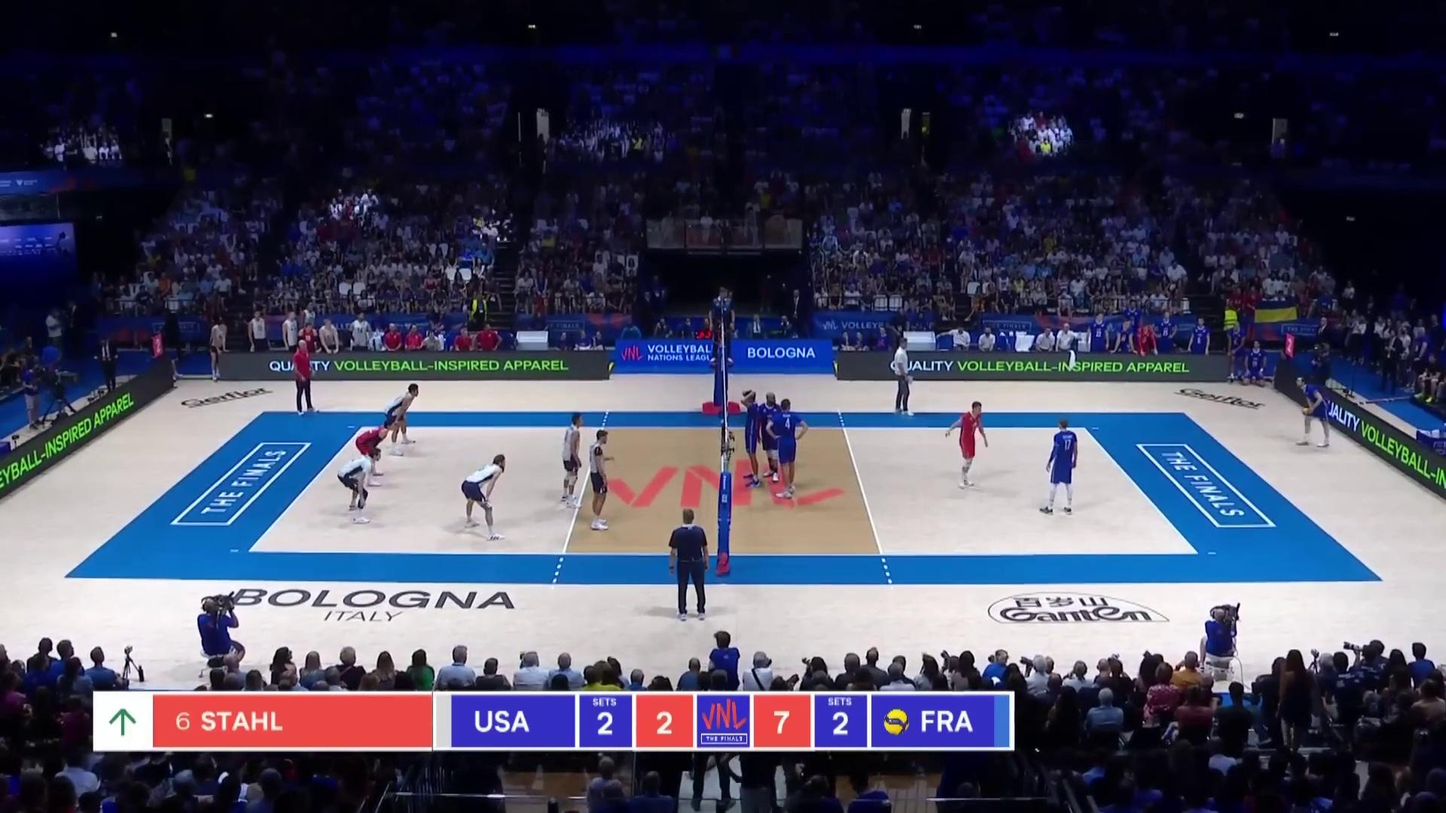player: (461, 455, 506, 540), (1040, 420, 1079, 516), (772, 398, 803, 502), (951, 402, 987, 490), (342, 446, 381, 525), (589, 428, 617, 535), (352, 420, 394, 490), (734, 388, 761, 486), (1292, 377, 1328, 450), (385, 383, 421, 456), (757, 392, 783, 484), (562, 413, 586, 510)
refree: (669, 512, 709, 620), (710, 287, 735, 362)
